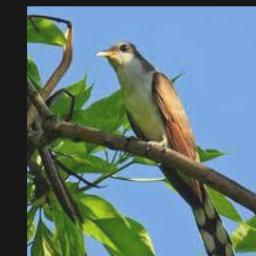Cuckoo: (95, 41, 236, 256)
